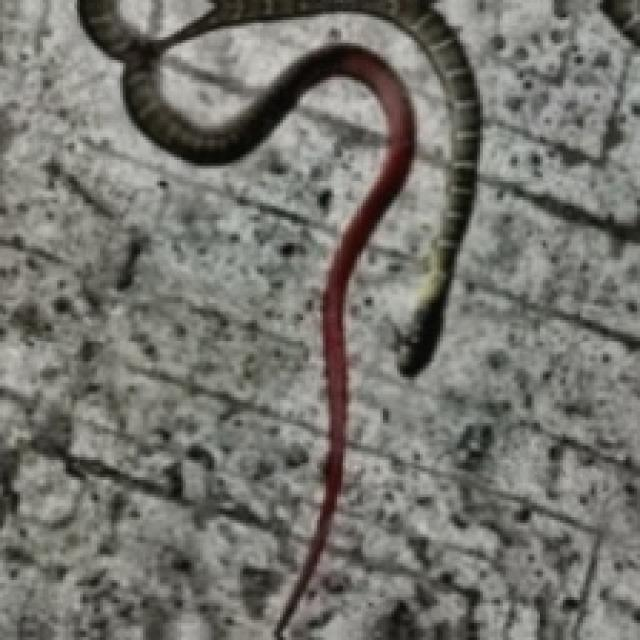reddish rat snake: (77, 0, 480, 637)
